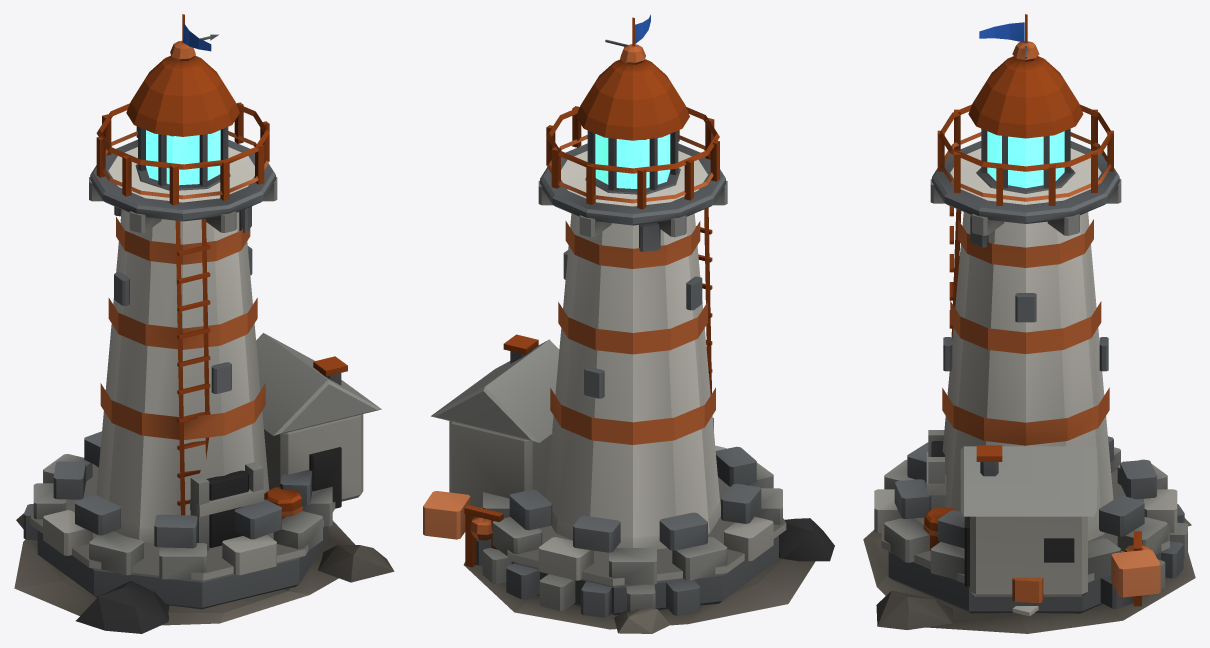
Rendered from n_lighthouse.glb.
3 views of the same model, side by side, from view 1: azimuth 30°, elevation 25°; view 2: azimuth 150°, elevation 25°; view 3: azimuth 270°, elevation 25° (orthographic).
Parts seen in each view (by area): view 1: body, spinLamp; view 2: body, spinLamp; view 3: body, spinLamp, swayFlag.
Boxes of the visible parts, left/top/right/bottom form: body: left=14, top=34, right=394, bottom=633; spinLamp: left=138, top=127, right=228, bottom=186; body: left=423, top=39, right=834, bottom=633; spinLamp: left=587, top=130, right=678, bottom=190; body: left=863, top=41, right=1195, bottom=633; spinLamp: left=981, top=128, right=1070, bottom=188; swayFlag: left=979, top=14, right=1027, bottom=43.
Size of the model in its own units: 2.55 by 3.99 by 2.2.
